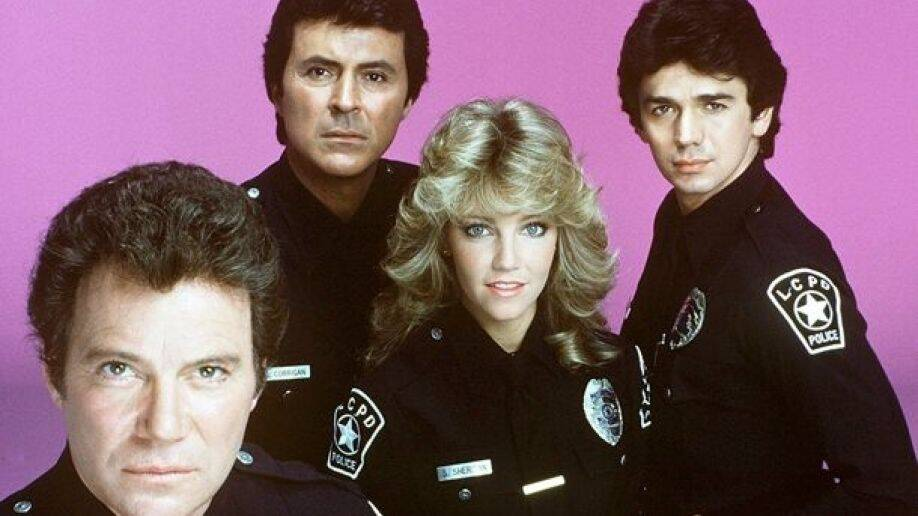bad: (77, 325, 262, 511), (282, 39, 411, 168), (626, 67, 755, 196), (450, 199, 557, 307)
